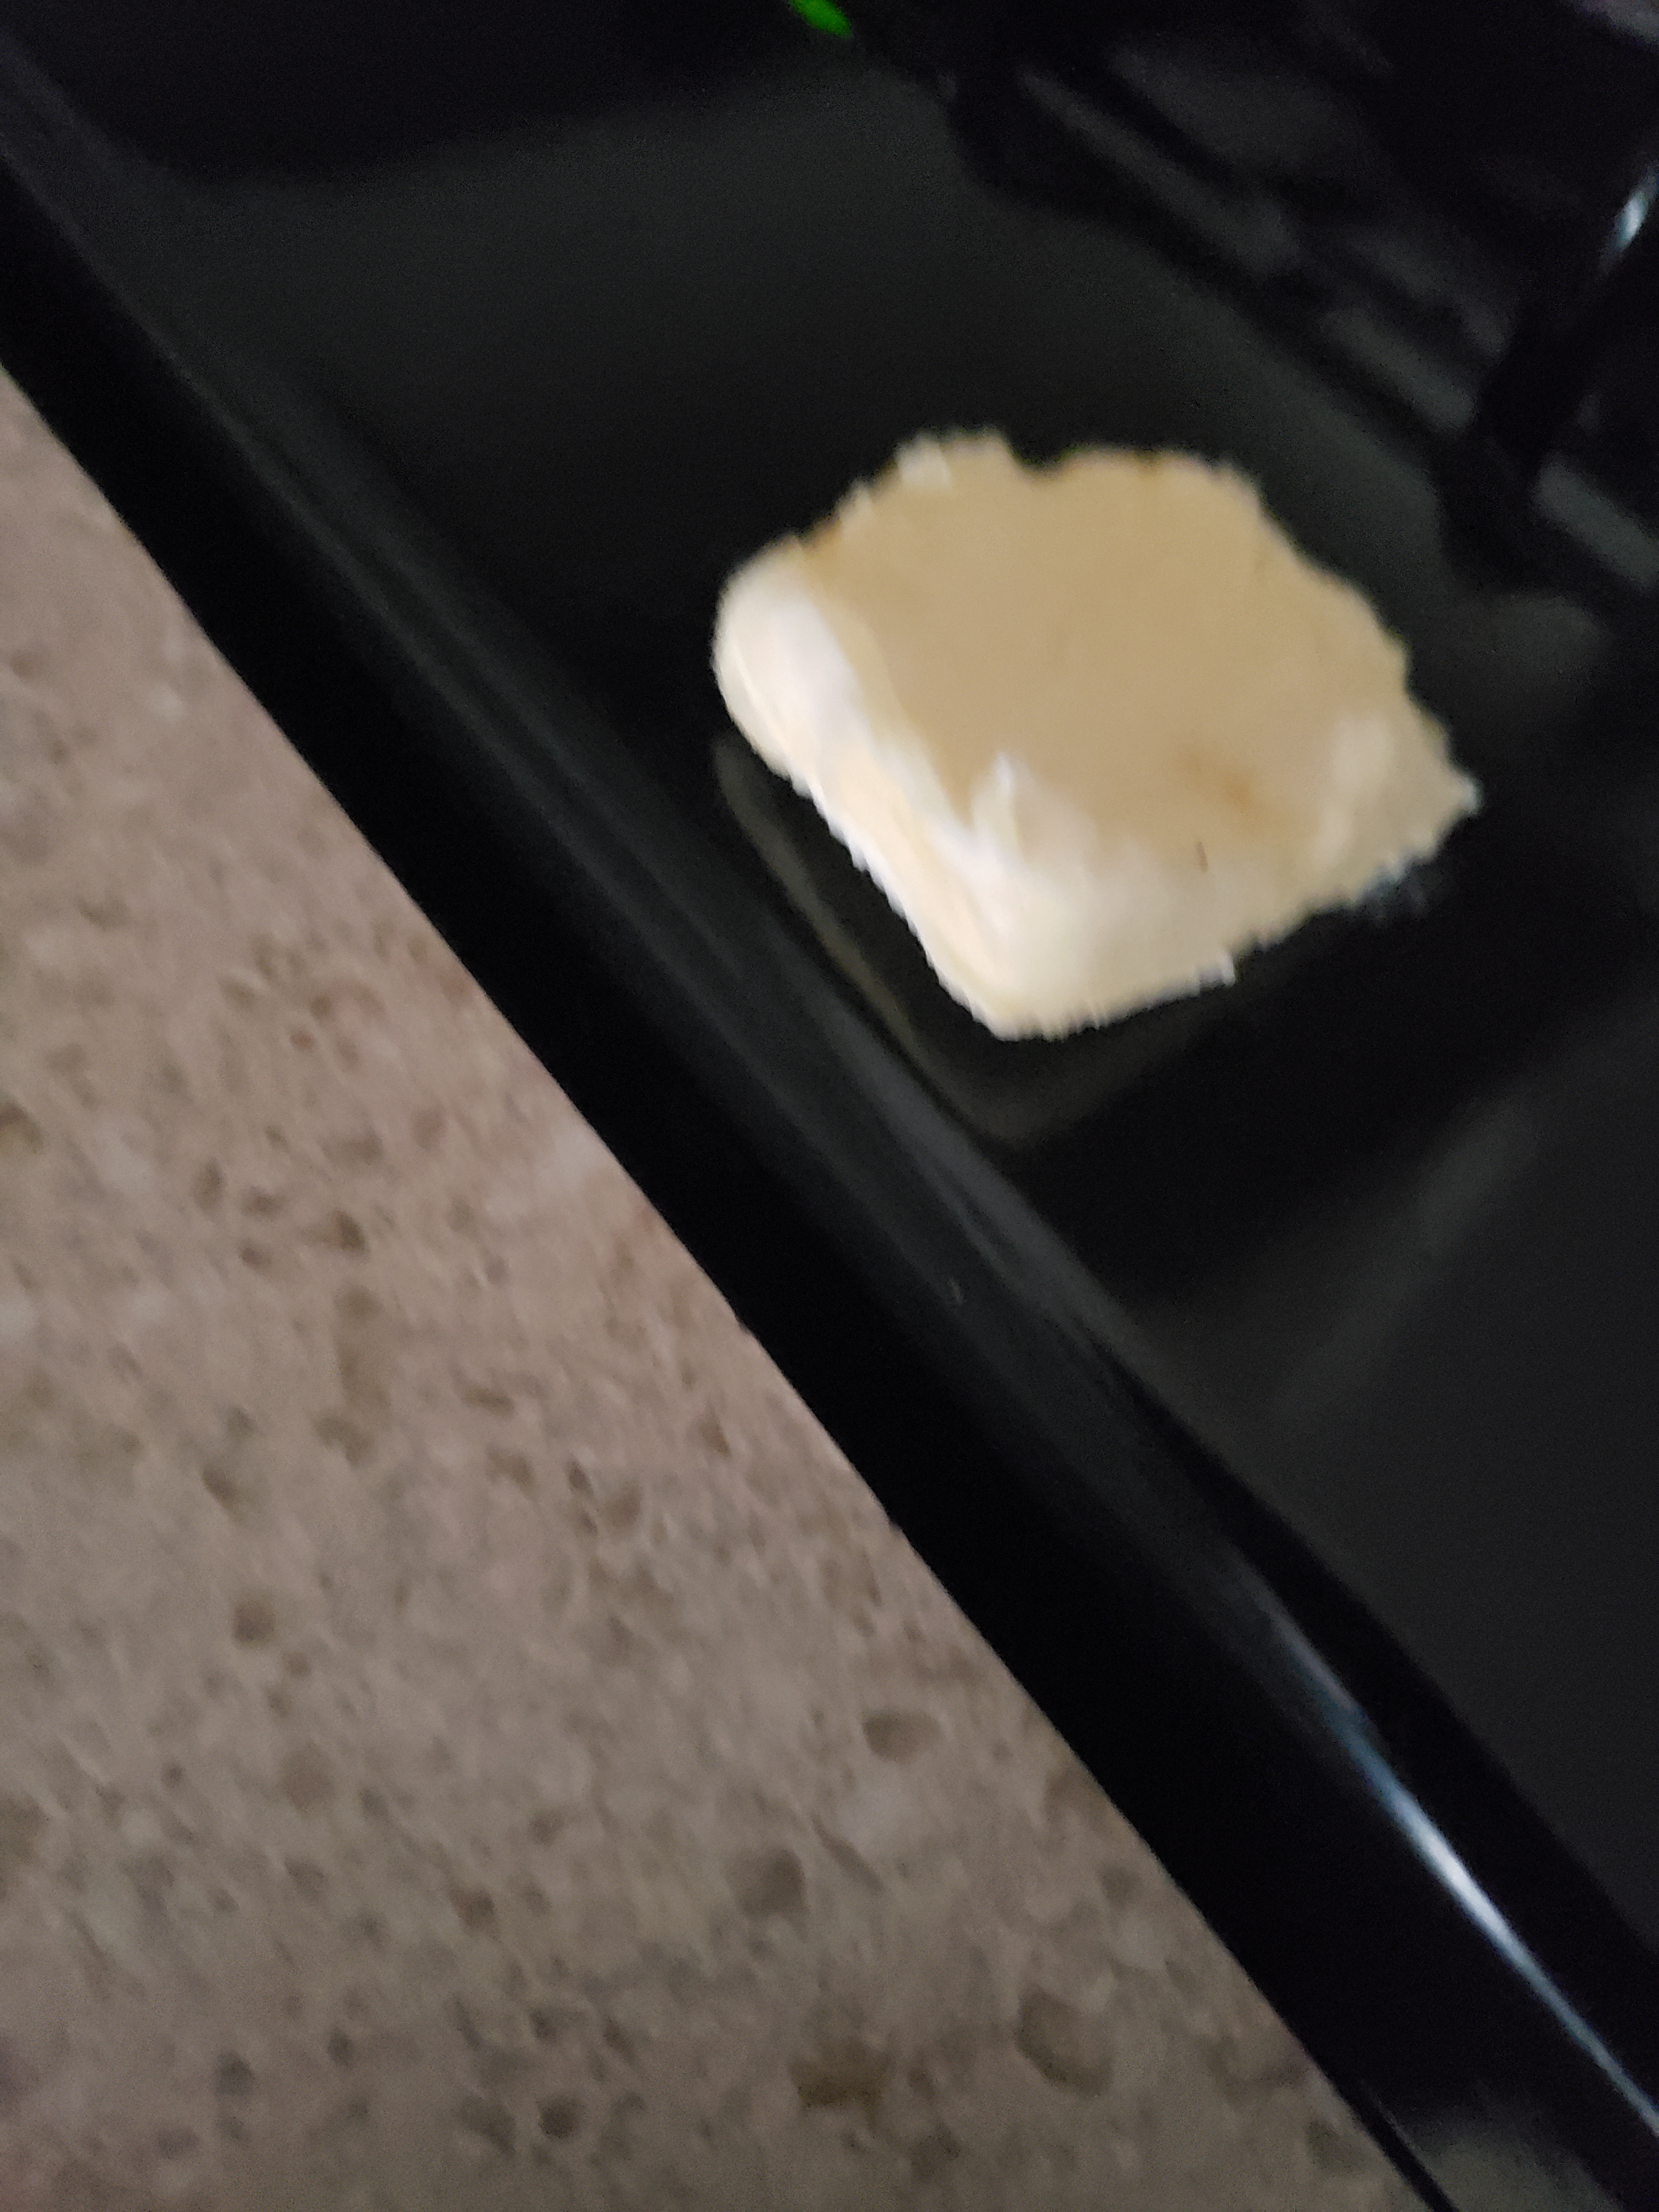Butter: (716, 421, 1486, 1029)
